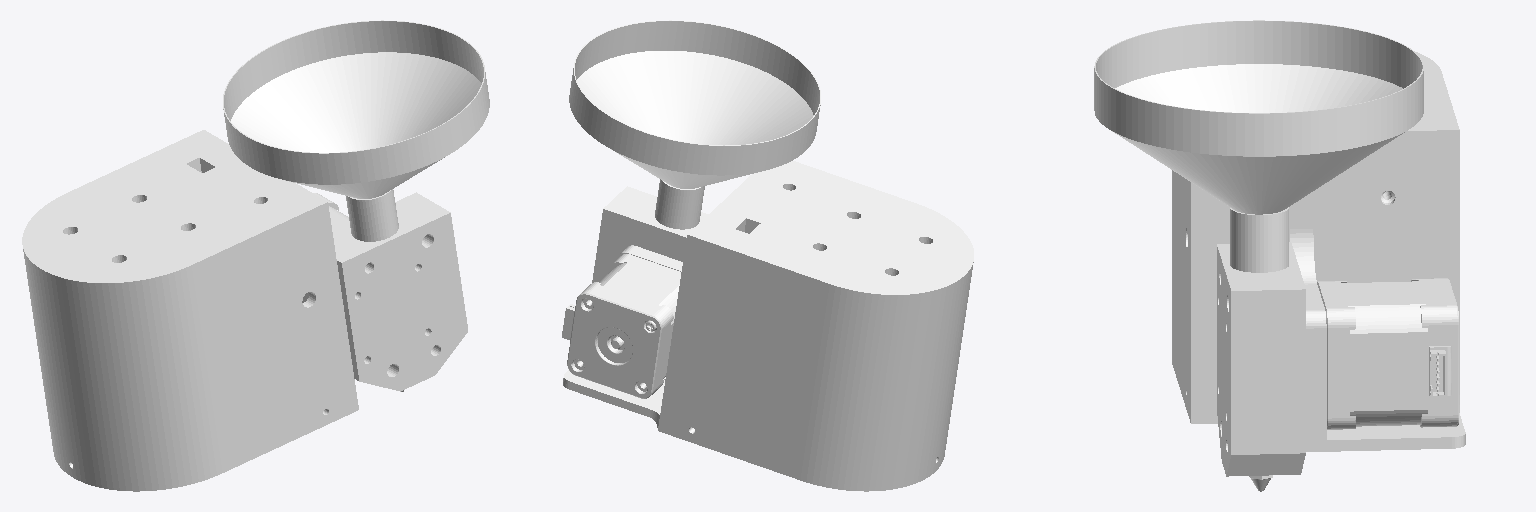
URDF robot description (panda):
<?xml version="1.0" ?>
<!-- =================================================================================== -->
<!-- |    This document was autogenerated by xacro from ekstruder.xacro                | -->
<!-- |    EDITING THIS FILE BY HAND IS NOT RECOMMENDED                                 | -->
<!-- =================================================================================== -->
<robot name="panda">
    <link name="panda_link0">
        <visual>
            <geometry>
                <mesh filename="package://moveit_resources_panda_description/meshes/visual/link0.dae" />
            </geometry>
        </visual>
        <collision>
            <geometry>
                <mesh filename="package://moveit_resources_panda_description/meshes/collision/link0.stl" />
            </geometry>
        </collision>
        <inertial>
            <mass value="0.1" />
            <origin xyz="0 0 0" rpy="0 0 0" />
            <inertia ixx="0.03" iyy="0.03" izz="0.03" ixy="0.0" ixz="0.0" iyz="0.0" />
        </inertial>
    </link>
    <link name="panda_link1">
        <visual>
            <geometry>
                <mesh filename="package://moveit_resources_panda_description/meshes/visual/link1.dae" />
            </geometry>
        </visual>
        <collision>
            <geometry>
                <mesh filename="package://moveit_resources_panda_description/meshes/collision/link1.stl" />
            </geometry>
        </collision>
        <inertial>
            <mass value="0.1" />
            <origin xyz="0 0 0" rpy="0 0 0" />
            <inertia ixx="0.03" iyy="0.03" izz="0.03" ixy="0.0" ixz="0.0" iyz="0.0" />
        </inertial>
    </link>
    <joint name="panda_joint1" type="revolute">
        <safety_controller k_position="100.0" k_velocity="40.0" soft_lower_limit="-2.8973" soft_upper_limit="2.8973" />
        <origin rpy="0 0 0" xyz="0 0 0.333" />
        <parent link="panda_link0" />
        <child link="panda_link1" />
        <axis xyz="0 0 1" />
        <limit effort="87" lower="-1.4" upper="1.4" velocity="2.3925" />
    </joint>
    <link name="panda_link2">
        <visual>
            <geometry>
                <mesh filename="package://moveit_resources_panda_description/meshes/visual/link2.dae" />
            </geometry>
        </visual>
        <collision>
            <geometry>
                <mesh filename="package://moveit_resources_panda_description/meshes/collision/link2.stl" />
            </geometry>
        </collision>
        <inertial>
            <mass value="0.1" />
            <origin xyz="0 0 0" rpy="0 0 0" />
            <inertia ixx="0.03" iyy="0.03" izz="0.03" ixy="0.0" ixz="0.0" iyz="0.0" />
        </inertial>
    </link>
    <joint name="panda_joint2" type="revolute">
        <safety_controller k_position="100.0" k_velocity="40.0" soft_lower_limit="-1.7628" soft_upper_limit="1.7628" />
        <origin rpy="-1.5707963267948966 0 0" xyz="0 0 0" />
        <parent link="panda_link1" />
        <child link="panda_link2" />
        <axis xyz="0 0 1" />
        <limit effort="87" lower="-1" upper="1.4" velocity="2.3925" />
    </joint>
    <link name="panda_link3">
        <visual>
            <geometry>
                <mesh filename="package://moveit_resources_panda_description/meshes/visual/link3.dae" />
            </geometry>
        </visual>
        <collision>
            <geometry>
                <mesh filename="package://moveit_resources_panda_description/meshes/collision/link3.stl" />
            </geometry>
        </collision>
        <inertial>
            <mass value="0.1" />
            <origin xyz="0 0 0" rpy="0 0 0" />
            <inertia ixx="0.03" iyy="0.03" izz="0.03" ixy="0.0" ixz="0.0" iyz="0.0" />
        </inertial>
    </link>
    <joint name="panda_joint3" type="revolute">
        <safety_controller k_position="100.0" k_velocity="40.0" soft_lower_limit="-2.8973" soft_upper_limit="2.8973" />
        <origin rpy="1.5707963267948966 0 0" xyz="0 -0.316 0" />
        <parent link="panda_link2" />
        <child link="panda_link3" />
        <axis xyz="0 0 1" />
        <limit effort="87" lower="-1.4" upper="1.4" velocity="2.3925" />
    </joint>
    <link name="panda_link4">
        <visual>
            <geometry>
                <mesh filename="package://moveit_resources_panda_description/meshes/visual/link4.dae" />
            </geometry>
        </visual>
        <collision>
            <geometry>
                <mesh filename="package://moveit_resources_panda_description/meshes/collision/link4.stl" />
            </geometry>
        </collision>
        <inertial>
            <mass value="0.1" />
            <origin xyz="0 0 0" rpy="0 0 0" />
            <inertia ixx="0.03" iyy="0.03" izz="0.03" ixy="0.0" ixz="0.0" iyz="0.0" />
        </inertial>
    </link>
    <joint name="panda_joint4" type="revolute">
        <safety_controller k_position="100.0" k_velocity="40.0" soft_lower_limit="-3.0718" soft_upper_limit="0.0175" />
        <origin rpy="1.5707963267948966 0 0" xyz="0.0825 0 0" />
        <parent link="panda_link3" />
        <child link="panda_link4" />
        <axis xyz="0 0 1" />
        <limit effort="87" lower="-3.1416" upper="0.0873" velocity="2.3925" />
    </joint>
    <link name="panda_link5">
        <visual>
            <geometry>
                <mesh filename="package://moveit_resources_panda_description/meshes/visual/link5.dae" />
            </geometry>
        </visual>
        <collision>
            <geometry>
                <mesh filename="package://moveit_resources_panda_description/meshes/collision/link5.stl" />
            </geometry>
        </collision>
        <inertial>
            <mass value="0.1" />
            <origin xyz="0 0 0" rpy="0 0 0" />
            <inertia ixx="0.03" iyy="0.03" izz="0.03" ixy="0.0" ixz="0.0" iyz="0.0" />
        </inertial>
    </link>
    <joint name="panda_joint5" type="revolute">
        <safety_controller k_position="100.0" k_velocity="40.0" soft_lower_limit="-2.8973" soft_upper_limit="2.8973" />
        <origin rpy="-1.5707963267948966 0 0" xyz="-0.0825 0.384 0" />
        <parent link="panda_link4" />
        <child link="panda_link5" />
        <axis xyz="0 0 1" />
        <limit effort="12" lower="-1.4" upper="1.4" velocity="2.8710" />
    </joint>
    <link name="panda_link6">
        <visual>
            <geometry>
                <mesh filename="package://moveit_resources_panda_description/meshes/visual/link6.dae" />
            </geometry>
        </visual>
        <collision>
            <geometry>
                <mesh filename="package://moveit_resources_panda_description/meshes/collision/link6.stl" />
            </geometry>
        </collision>
        <inertial>
            <mass value="0.1" />
            <origin xyz="0 0 0" rpy="0 0 0" />
            <inertia ixx="0.03" iyy="0.03" izz="0.03" ixy="0.0" ixz="0.0" iyz="0.0" />
        </inertial>
    </link>
    <joint name="panda_joint6" type="revolute">
        <safety_controller k_position="100.0" k_velocity="40.0" soft_lower_limit="-0.0175" soft_upper_limit="3.7525" />
        <origin rpy="1.5707963267948966 -0.15 0" xyz="0 0 0" />
        <parent link="panda_link5" />
        <child link="panda_link6" />
        <axis xyz="0 0 1" />
        <limit effort="12" lower="-0.0873" upper="3.8223" velocity="2.8710" />
    </joint>
    <link name="panda_link7">
        <visual>
            <geometry>
                <mesh filename="package://moveit_resources_panda_description/meshes/visual/link7.dae" />
            </geometry>
        </visual>
        <collision>
            <geometry>
                <mesh filename="package://moveit_resources_panda_description/meshes/collision/link7.stl" />
            </geometry>
        </collision>
        <inertial>
            <mass value="0.1" />
            <origin xyz="0 0 0" rpy="0 0 0" />
            <inertia ixx="0.03" iyy="0.03" izz="0.03" ixy="0.0" ixz="0.0" iyz="0.0" />
        </inertial>
    </link>
    <joint name="panda_joint7" type="revolute">
        <safety_controller k_position="100.0" k_velocity="40.0" soft_lower_limit="-2.8973" soft_upper_limit="2.8973" />
        <origin rpy="1.5707963267948966 2.9 0" xyz="0.088 0 0" />
        <parent link="panda_link6" />
        <child link="panda_link7" />
        <axis xyz="0 0 1" />
        <limit effort="12" lower="-2.5" upper="-1.3" velocity="2.8710" />
    </joint>
    <joint name="ekstruder_joint" type="fixed">
        <origin rpy="0 0 0" xyz="0 0 0.107" />
        <parent link="panda_link7" />
        <child link="ekstruder" />
        <axis xyz="0 0 0" />
    </joint>
    <link name="ekstruder">
        <inertial>
            <origin rpy="0 0 0" xyz="0 0 0.107" />
            <mass value="1.6" />
            <inertia ixx="0.07" ixy="0" ixz="0" iyy="0" iyz="-0.04" izy="-0.04" izz="0.07" />
        </inertial>
        <visual>
            <origin rpy="0 0 4.71239" xyz="0 0 0" />
            <geometry>
                <mesh filename="package://robo_print_3d/ekstruder_setup/meshes/collision/urdf_tool.stl" scale="0.001 0.001 0.001" />
            </geometry>
            <material name="white">
                <color rgba="1 1 1 1" />
            </material>
        </visual>
        <collision>
            <origin rpy="0 0 4.71239" xyz="0 0 0" />
            <geometry>
                <mesh filename="package://robo_print_3d/ekstruder_setup//meshes/collision/urdf_tool.stl" scale="0.001 0.001 0.001" />
            </geometry>
        </collision>
    </link>
    <joint name="tool_tip_joint" type="fixed">
        <origin rpy="0 0 0" xyz="0.025 -0.104 0.114" />
        <parent link="ekstruder" />
        <child link="tool_tip" />
        <axis xyz="0 0 0" />
    </joint>
    <link name="tool_tip">
        <inertial>
            <origin rpy="0 0 0" xyz="0 0 0" />
            <mass value="0.0001" />
            <inertia ixx="0.00000001" ixy="0" ixz="0" iyy="0.00000001" iyz="0" izz="0.00000001" />
        </inertial>
    </link>
    <transmission name="trans_panda_joint1">
        <type>transmission_interface/SimpleTransmission</type>
        <joint name="panda_joint1">
            <hardwareInterface>hardware_interface/EffortJointInterface</hardwareInterface>
        </joint>
        <actuator name="panda_joint1_motor">
            <hardwareInterface>hardware_interface/EffortJointInterface</hardwareInterface>
            <mechanicalReduction>1</mechanicalReduction>
        </actuator>
    </transmission>
    <transmission name="trans_panda_joint2">
        <type>transmission_interface/SimpleTransmission</type>
        <joint name="panda_joint2">
            <hardwareInterface>hardware_interface/EffortJointInterface</hardwareInterface>
        </joint>
        <actuator name="panda_joint2_motor">
            <hardwareInterface>hardware_interface/EffortJointInterface</hardwareInterface>
            <mechanicalReduction>1</mechanicalReduction>
        </actuator>
    </transmission>
    <transmission name="trans_panda_joint3">
        <type>transmission_interface/SimpleTransmission</type>
        <joint name="panda_joint3">
            <hardwareInterface>hardware_interface/EffortJointInterface</hardwareInterface>
        </joint>
        <actuator name="panda_joint3_motor">
            <hardwareInterface>hardware_interface/EffortJointInterface</hardwareInterface>
            <mechanicalReduction>1</mechanicalReduction>
        </actuator>
    </transmission>
    <transmission name="trans_panda_joint4">
        <type>transmission_interface/SimpleTransmission</type>
        <joint name="panda_joint4">
            <hardwareInterface>hardware_interface/EffortJointInterface</hardwareInterface>
        </joint>
        <actuator name="panda_joint4_motor">
            <hardwareInterface>hardware_interface/EffortJointInterface</hardwareInterface>
            <mechanicalReduction>1</mechanicalReduction>
        </actuator>
    </transmission>
    <transmission name="trans_panda_joint5">
        <type>transmission_interface/SimpleTransmission</type>
        <joint name="panda_joint5">
            <hardwareInterface>hardware_interface/EffortJointInterface</hardwareInterface>
        </joint>
        <actuator name="panda_joint5_motor">
            <hardwareInterface>hardware_interface/EffortJointInterface</hardwareInterface>
            <mechanicalReduction>1</mechanicalReduction>
        </actuator>
    </transmission>
    <transmission name="trans_panda_joint6">
        <type>transmission_interface/SimpleTransmission</type>
        <joint name="panda_joint6">
            <hardwareInterface>hardware_interface/EffortJointInterface</hardwareInterface>
        </joint>
        <actuator name="panda_joint6_motor">
            <hardwareInterface>hardware_interface/EffortJointInterface</hardwareInterface>
            <mechanicalReduction>1</mechanicalReduction>
        </actuator>
    </transmission>
    <transmission name="trans_panda_joint7">
        <type>transmission_interface/SimpleTransmission</type>
        <joint name="panda_joint7">
            <hardwareInterface>hardware_interface/EffortJointInterface</hardwareInterface>
        </joint>
        <actuator name="panda_joint7_motor">
            <hardwareInterface>hardware_interface/EffortJointInterface</hardwareInterface>
            <mechanicalReduction>1</mechanicalReduction>
        </actuator>
    </transmission>
    <gazebo>
        <plugin name="gazebo_ros_control">
            <robotNamespace>/</robotNamespace>
        </plugin>
    </gazebo>
</robot>

--- What the picture shows (computed from the rendered views, not written in the file) ---
Views: 3 orthographic renders of the robot side by side, from view 1: azimuth 30°, elevation 25°; view 2: azimuth 150°, elevation 25°; view 3: azimuth 270°, elevation 25°.
Model panda with 10 links and 9 joints (7 revolute, 2 fixed), rooted at panda_link0, posed all joints at 0 but 1 set to mid-range because 0 is outside their limits (panda_joint7 = -1.9).
Links seen in each view (by area): view 1: ekstruder; view 2: ekstruder; view 3: ekstruder.
Link boxes in pixels (<box>): ekstruder: <box>22,20,489,491</box>; ekstruder: <box>562,20,973,491</box>; ekstruder: <box>1094,20,1465,491</box>.
Size in the robot's own frame: 0.1995 by 0.1238 by 0.1623 metres.
1 mesh visuals loaded from 9 distinct referenced files (1 binary STL); not drawn: 8 (reference not matched to a file when rendering).